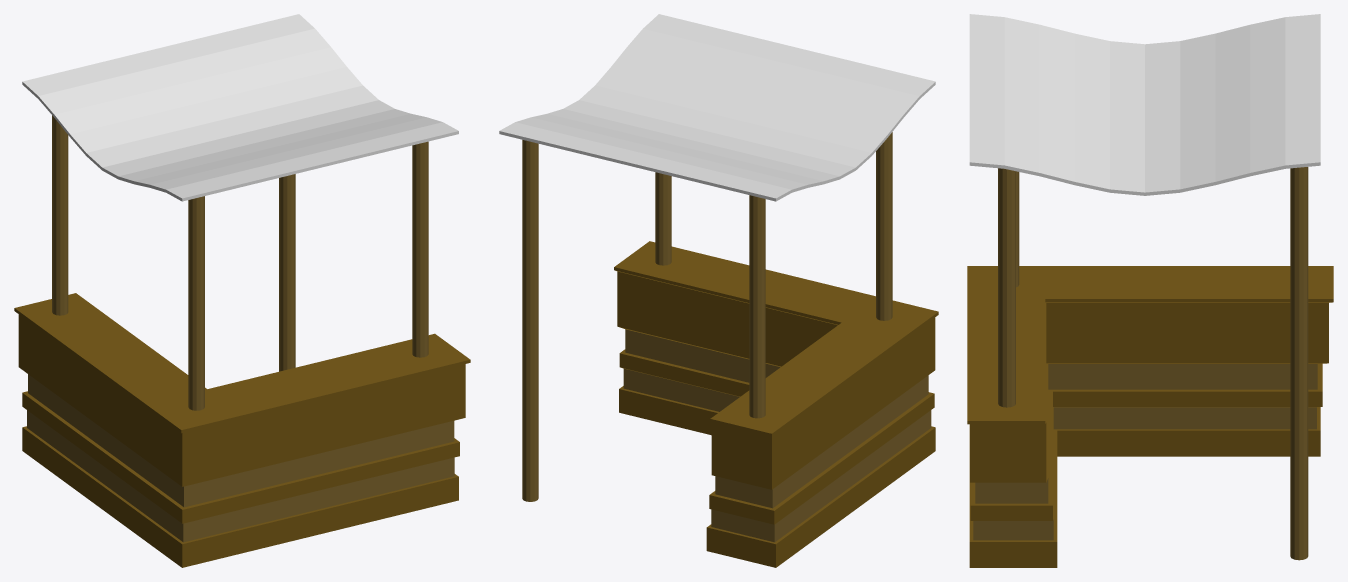
File: Trading_Place.fbx
3 views of the same model, side by side, from view 1: azimuth 30°, elevation 25°; view 2: azimuth 150°, elevation 25°; view 3: azimuth 270°, elevation 25° (orthographic). The views are drawn at different scales.
Parts seen in each view (by area): view 1: Trading Place; view 2: Trading Place; view 3: Trading Place.
Part boxes in pixels (x1,y1,x2,y2): Trading Place: (14,14,470,567); Trading Place: (499,14,938,567); Trading Place: (967,14,1333,567).
Bounding box in the file's own units: 209 × 255 × 209.
